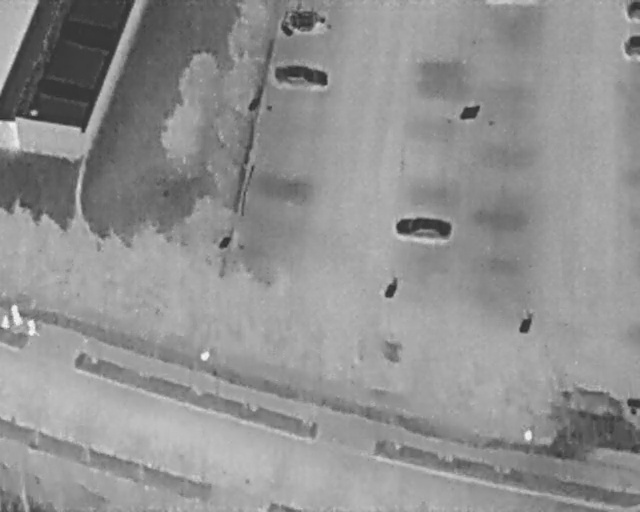Car: (556, 387, 640, 446), (394, 212, 454, 243), (273, 63, 327, 91), (282, 10, 331, 34), (622, 34, 640, 57), (625, 1, 640, 21)
Person: (9, 303, 23, 326), (28, 317, 39, 335), (1, 313, 10, 331)
